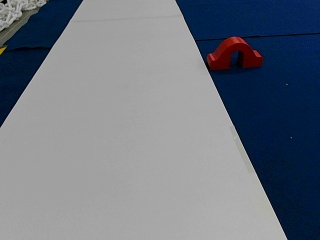bridge: (209, 37, 262, 68)
